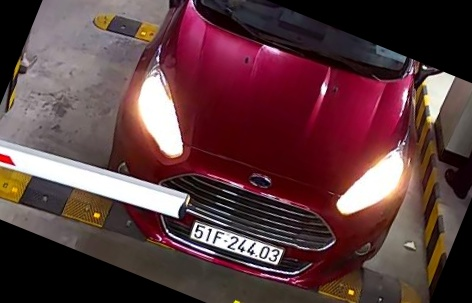plate: (183, 213, 288, 266)
